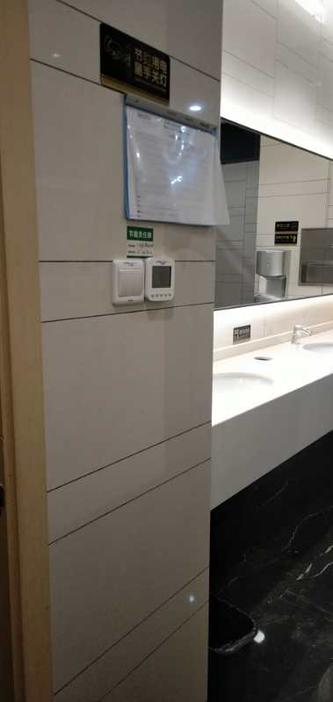switch: (122, 262, 150, 292)
